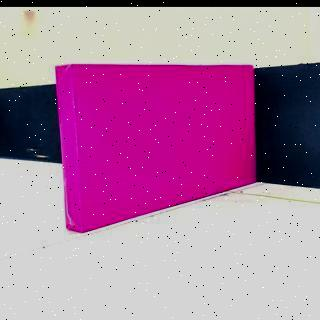xparking: (65, 70, 253, 202)
